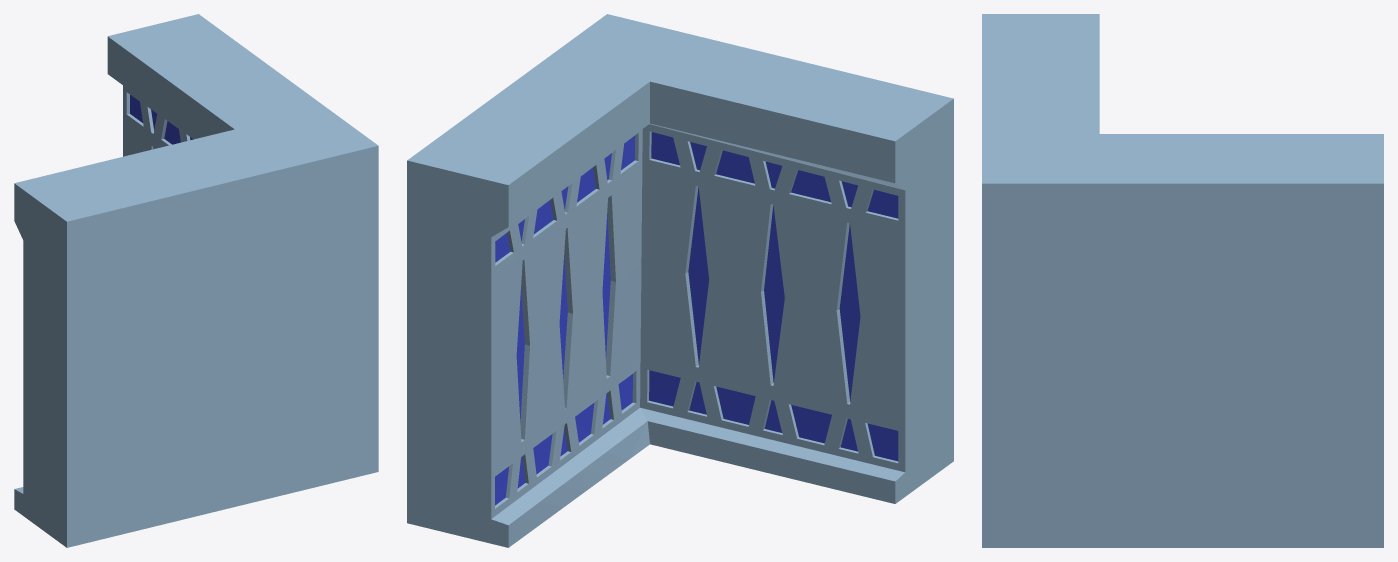
Rendered from EspacioRedSocialEsquinaCierreExteriorNI.gltf.
The picture shows the model from 3 angles, left to right: view 1: azimuth 30°, elevation 25°; view 2: azimuth 150°, elevation 25°; view 3: azimuth 270°, elevation 25°; orthographic projection. The views are drawn at different scales.
Visible parts, largest first — view 1: Cubo.21; view 2: Cubo.21; view 3: Cubo.21.
Part boxes in pixels (x1,y1,x2,y2): Cubo.21: (14, 14, 378, 547); Cubo.21: (407, 14, 953, 547); Cubo.21: (982, 14, 1383, 547).
Bounding box in the file's own units: 2 × 2 × 2.
1 material, 1 textured.
